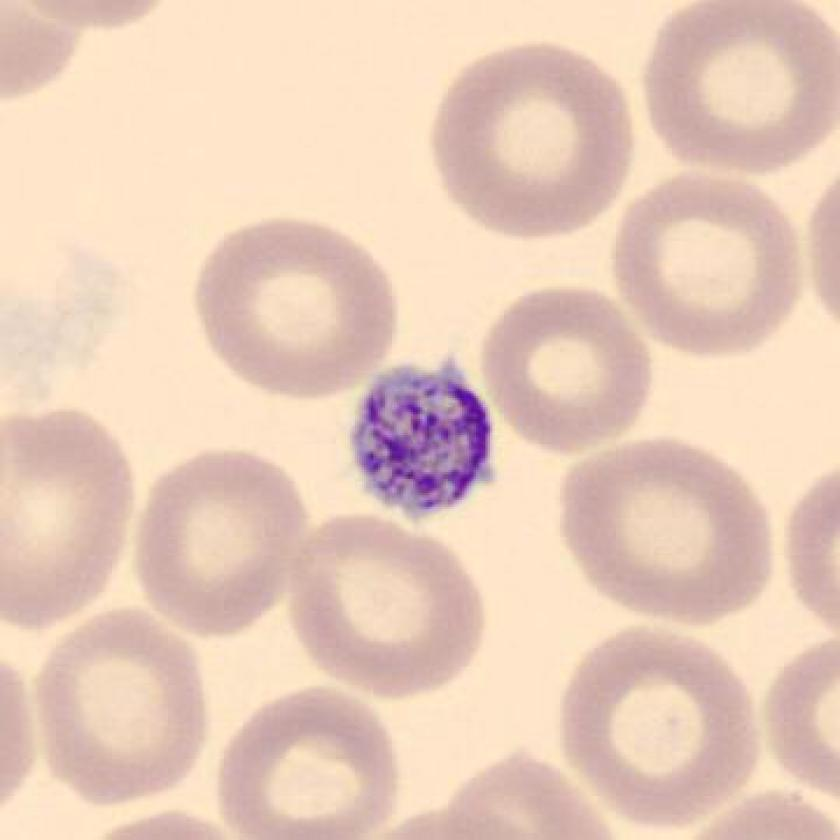platelets: (342, 344, 510, 534)
